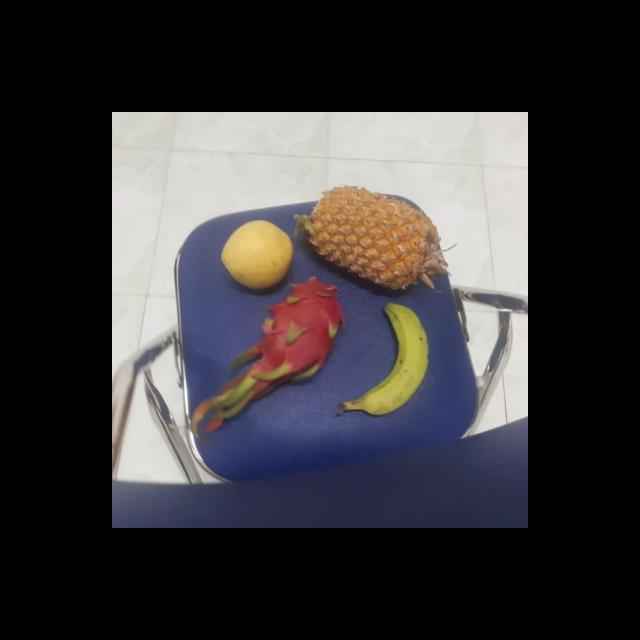banana: (341, 298, 432, 418)
pear: (217, 218, 295, 290)
pineapple: (300, 183, 442, 294)
pitaya: (254, 277, 345, 378)
